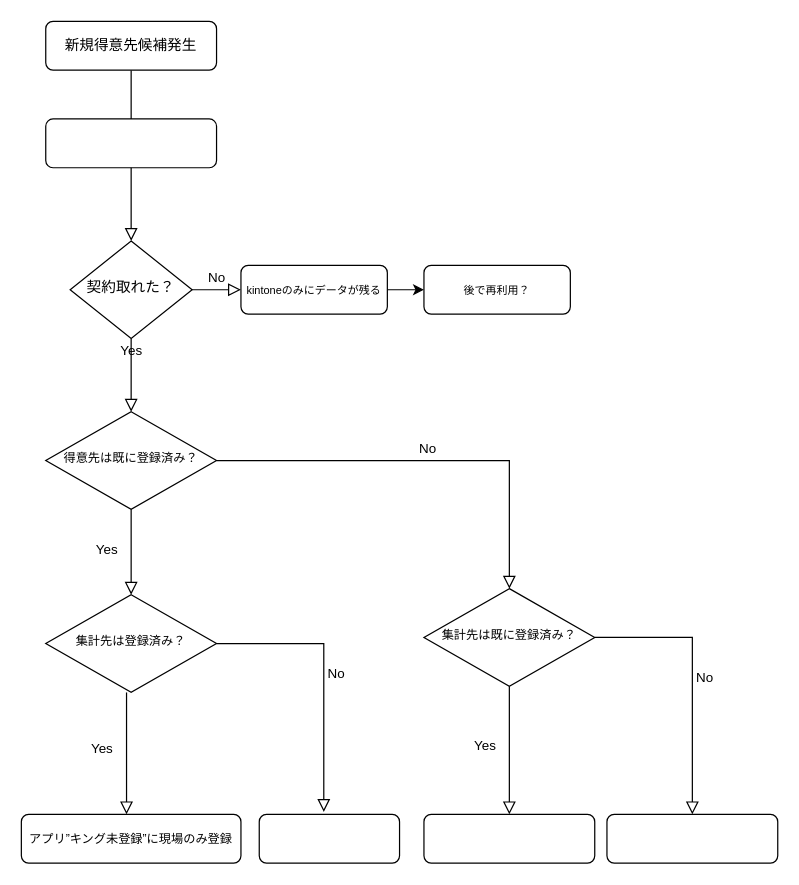
The diagram is 799 pixels wide and 885 high, and some of its shapes have lost their labels. Here are the shapes that lost their labels. From the top down, the centre of each, then its label:
the point at 131,143: kintoneに仮登録
the point at 329,838: アプリ”キング未登録”に集計先、現場を登録
the point at 509,838: アプリ”キング未登録”に得意先と現場を登録
the point at 692,838: アプリ”キング未登録”に集計先、得意先、現場を登録
